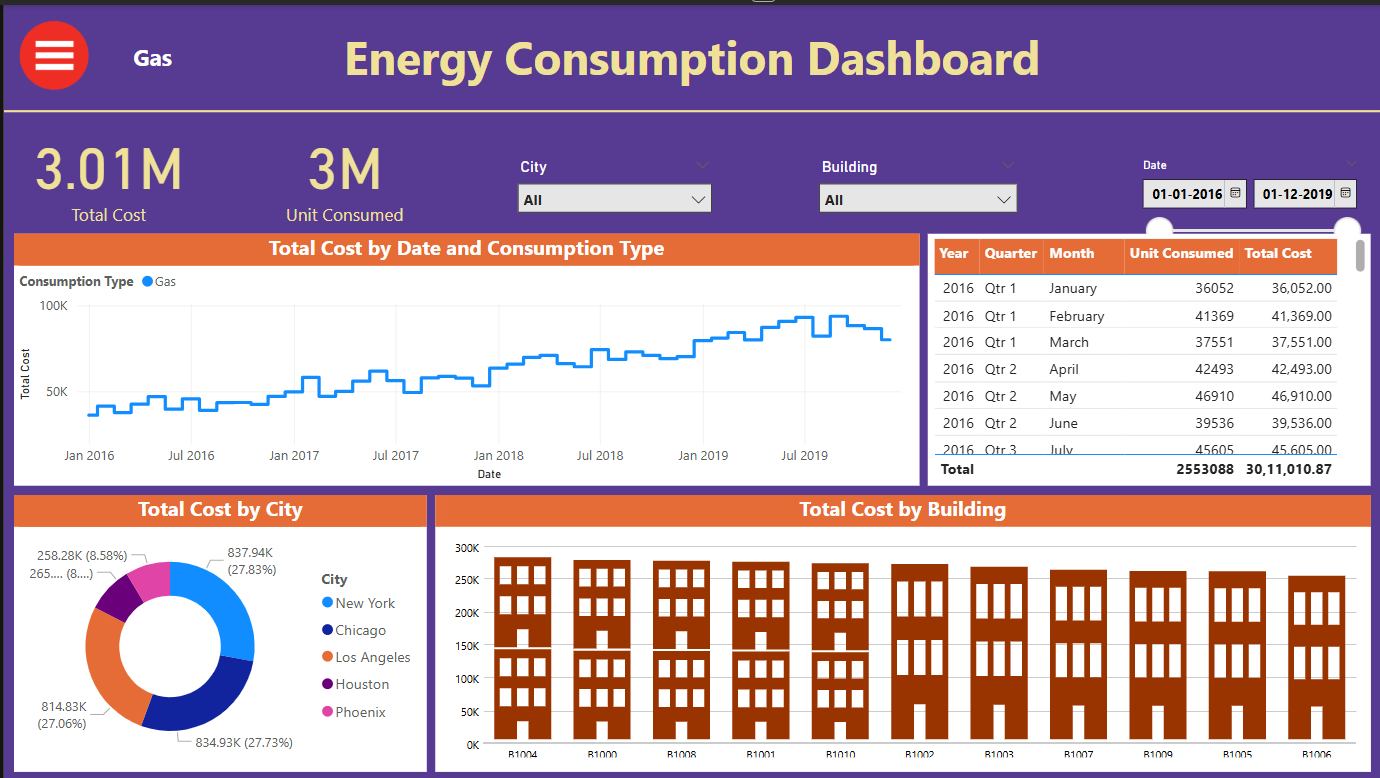

What the dashboard file says about the page in this screenshot:
{"tool":"powerbi","page":{"name":"Gas","canvas":[1280,720],"ordinal":3},"visuals":[{"type":"shape","box":[0,83.6,1280,30.2],"z":0},{"type":"image","box":[0,8.8,94.3,74.9],"z":1000},{"type":"textbox","box":[290.3,14.4,698.4,69],"z":2000},{"type":"textbox","box":[82.5,28.8,111.2,39.3],"z":3000},{"type":"card","fields":{"Values":["Energy Consumptions.Total Cost"]},"box":[2.9,98.8,190.8,115.1],"z":4000},{"type":"card","fields":{"Values":["Energy Consumptions.Unit Consumed"]},"box":[212.9,98.8,209,115.1],"z":5000},{"type":"slicer","fields":{"Values":["Energy Consumptions.Building"]},"box":[747.9,137.1,205.2,63.3],"z":6000},{"type":"slicer","fields":{"Values":["Building Master.City"]},"box":[466.9,137.1,201.3,63.3],"z":7000},{"type":"slicer","fields":{"Values":["Energy Consumptions.Date"]},"box":[1047,137.1,224.4,93],"z":8000},{"type":"lineChart","fields":{"Category":["Energy Consumptions.Date"],"Y":["Energy Consumptions.Total Cost"],"Series":["Energy Consumptions.Consumption Type"]},"box":[8.8,213.4,842,234.4],"z":9000},{"type":"donutChart","fields":{"Y":["Energy Consumptions.Total Cost"],"Category":["Building Master.City"]},"box":[8.8,455.7,383.7,257.3],"z":10000},{"type":"PBI_CV_73744D90_4DC9_4F18_8BA5_EE8FA5C98035","fields":{"Values":["Energy Consumptions.Total Cost"],"Category":["Energy Consumptions.Building"]},"box":[401.3,455.7,870.1,257.3],"z":11000},{"type":"tableEx","fields":{"Values":["Energy Consumptions.Date.Variation.Date Hierarchy.Year","Energy Consumptions.Date.Variation.Date Hierarchy.Quarter","Energy Consumptions.Date.Variation.Date Hierarchy.Month","Energy Consumptions.Unit Consumed","Energy Consumptions.Total Cost"]},"box":[859.6,213.4,411.8,234.4],"z":12000},{"type":"actionButton","box":[0,0,85.5,98.7],"z":15000}]}

Visuals, with their boxes in screenshot pixels (x1, y1, x2, y2), scaled from the page's 1280x720 canvas onto the 1380x778 screenshot:
shape: (0,90,1379,123)
image: (0,10,102,90)
textbox: (313,16,1066,90)
textbox: (89,31,209,74)
card - Energy Consumptions.Total Cost: (3,107,209,231)
card - Energy Consumptions.Unit Consumed: (230,107,455,231)
slicer - Energy Consumptions.Building: (806,148,1028,217)
slicer - Building Master.City: (503,148,720,217)
slicer - Energy Consumptions.Date: (1129,148,1371,249)
lineChart - Energy Consumptions.Date x Energy Consumptions.Total Cost: (9,231,917,484)
donutChart - Energy Consumptions.Total Cost x Building Master.City: (9,492,423,770)
PBI_CV_73744D90_4DC9_4F18_8BA5_EE8FA5C98035 - Energy Consumptions.Total Cost x Energy Consumptions.Building: (433,492,1371,770)
tableEx - Energy Consumptions.Date.Variation.Date Hierarchy.Year x Energy Consumptions.Date.Variation.Date Hierarchy.Quarter: (927,231,1371,484)
actionButton: (0,0,92,107)
